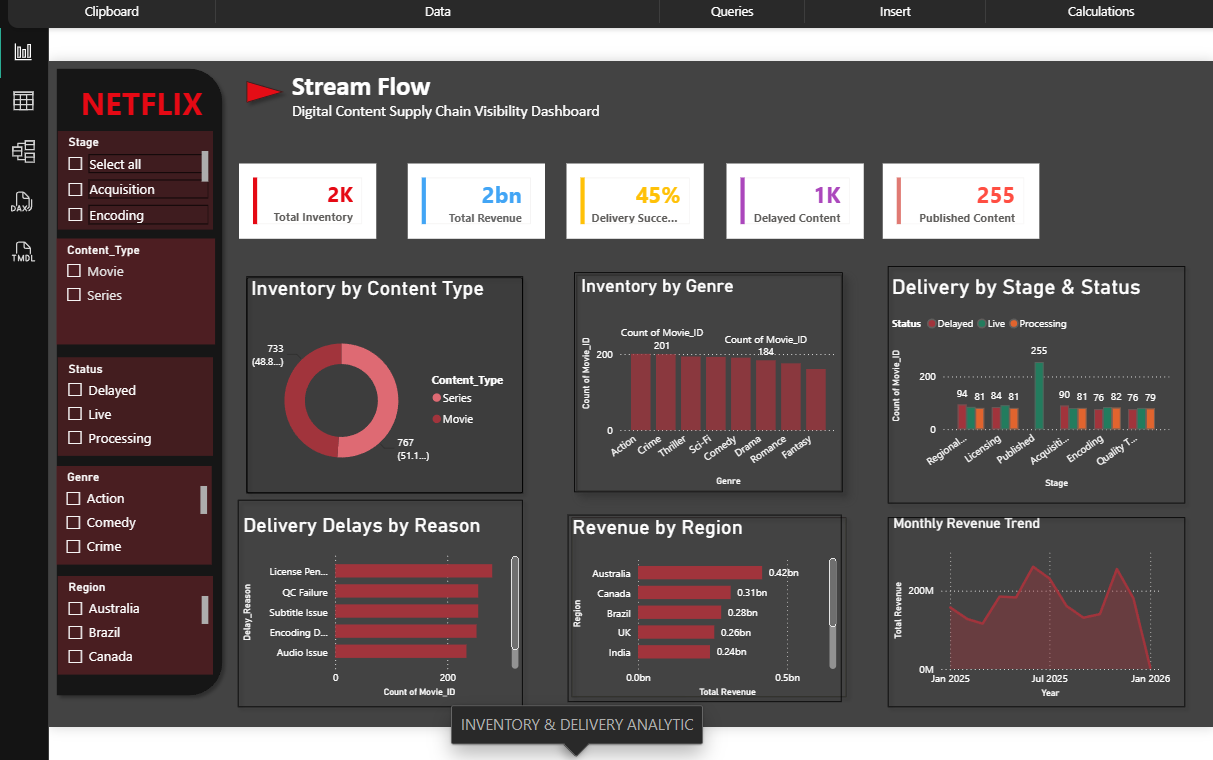

What the dashboard file says about the page in this screenshot:
{"tool":"powerbi","page":{"name":"INVENTORY & DELIVERY ANALYTIC","canvas":[1400,800],"ordinal":2},"visuals":[{"type":"shape","box":[0,0,217.2,770.8],"z":0},{"type":"textbox","box":[33.5,20.1,163.5,64.3],"z":1000},{"type":"cardVisual","fields":{"Data":["Netflix_Content_Supply_Chain.Total Revenue"]},"box":[430.3,123.3,165,90],"z":2000},{"type":"cardVisual","fields":{"Data":["Netflix_Content_Supply_Chain.Delivery Success %"]},"box":[622,123.3,165,90],"z":3000},{"type":"cardVisual","fields":{"Data":["Netflix_Content_Supply_Chain.Delayed Content"]},"box":[813.7,123.3,165,90],"z":4000},{"type":"cardVisual","fields":{"Data":["Netflix_Content_Supply_Chain.Published Content"]},"box":[1001.1,123.1,187.6,90.1],"z":5000},{"type":"cardVisual","fields":{"Data":["Netflix_Content_Supply_Chain.Total Inventory"]},"box":[227.9,123.3,165,90],"z":6000},{"type":"shape","box":[227.9,14.7,63,44.2],"z":7000},{"type":"textbox","box":[286.9,6.7,191.7,61.7],"z":8000},{"type":"textbox","box":[286.9,44.2,394.1,40.2],"z":9000},{"type":"shape","box":[227.9,250.7,349.9,277.5],"z":10000},{"type":"donutChart","title":"Inventory by Content Type","fields":{"Category":["Netflix_Content_Supply_Chain.Content_Type"],"Y":["CountNonNull(Netflix_Content_Supply_Chain.Movie_ID)"]},"box":[237.1,258.1,331.7,261.2],"z":11000},{"type":"shape","box":[621.4,244.6,340.7,282.2],"z":12000},{"type":"clusteredColumnChart","title":"Inventory by Genre","fields":{"Category":["Netflix_Content_Supply_Chain.Genre"],"Y":["CountNonNull(Netflix_Content_Supply_Chain.Movie_ID)"]},"box":[633.4,256.6,318.2,259.6],"z":13000},{"type":"clusteredBarChart","title":"Delivery Delays by Reason","fields":{"Category":["Netflix_Content_Supply_Chain.Delay_Reason"],"Y":["CountNonNull(Netflix_Content_Supply_Chain.Movie_ID)"]},"box":[228.1,543.3,340.7,225.1],"z":14000},{"type":"shape","box":[618.4,538.8,348.2,234.1],"z":15000},{"type":"clusteredBarChart","title":"Revenue by Region","fields":{"Category":["Netflix_Content_Supply_Chain.Region","Netflix_Content_Supply_Chain.Content_Type"],"Y":["Netflix_Content_Supply_Chain.Total Revenue"]},"box":[622.9,544.8,328.7,225.1],"z":16000},{"type":"clusteredColumnChart","title":"Delivery by Stage & Status","fields":{"Category":["Netflix_Content_Supply_Chain.Stage"],"Y":["CountNonNull(Netflix_Content_Supply_Chain.Movie_ID)"],"Series":["Netflix_Content_Supply_Chain.Status"]},"box":[1006.7,257.4,343.2,261.4],"z":17000},{"type":"slicer","fields":{"Values":["Netflix_Content_Supply_Chain.Stage"]},"box":[10.5,84,186.1,118.6],"z":18000},{"type":"slicer","fields":{"Values":["Netflix_Content_Supply_Chain.Content_Type"]},"box":[9,213.1,190.6,127.6],"z":19000},{"type":"slicer","fields":{"Values":["Netflix_Content_Supply_Chain.Status"]},"box":[10.5,355.7,186.1,118.6],"z":20000},{"type":"slicer","fields":{"Values":["Netflix_Content_Supply_Chain.Genre"]},"box":[9,486.3,186.1,118.6],"z":21000},{"type":"slicer","fields":{"Values":["Netflix_Content_Supply_Chain.Region"]},"box":[10.5,618.4,186.1,118.6],"z":22000},{"type":"lineChart","title":"Monthly Revenue Trend","fields":{"Y":["Netflix_Content_Supply_Chain.Total Revenue"],"Category":["Netflix_Content_Supply_Chain.Acquisition_Date.Variation.Date Hierarchy.Year","Netflix_Content_Supply_Chain.Acquisition_Date.Variation.Date Hierarchy.Month"]},"box":[1008.6,544.8,343,225],"z":23000},{"type":"shape","box":[998.1,237.1,375.2,303.2],"z":24000},{"type":"shape","box":[998.1,538.8,375.2,246.1],"z":25000},{"type":"shape","box":[217.6,517.8,360.2,267.2],"z":26000}]}

Visuals, with their boxes on the page's 1400x800 design canvas (x1, y1, x2, y2). These are canvas units, not pixel positions in the 1213x760 screenshot, which may show the page scaled, cropped or inside an application window:
shape: l=0, t=0, r=217, b=771
textbox: l=34, t=20, r=197, b=84
cardVisual - Netflix_Content_Supply_Chain.Total Revenue: l=430, t=123, r=595, b=213
cardVisual - Netflix_Content_Supply_Chain.Delivery Success %: l=622, t=123, r=787, b=213
cardVisual - Netflix_Content_Supply_Chain.Delayed Content: l=814, t=123, r=979, b=213
cardVisual - Netflix_Content_Supply_Chain.Published Content: l=1001, t=123, r=1189, b=213
cardVisual - Netflix_Content_Supply_Chain.Total Inventory: l=228, t=123, r=393, b=213
shape: l=228, t=15, r=291, b=59
textbox: l=287, t=7, r=479, b=68
textbox: l=287, t=44, r=681, b=84
shape: l=228, t=251, r=578, b=528
"Inventory by Content Type" donutChart: l=237, t=258, r=569, b=519
shape: l=621, t=245, r=962, b=527
"Inventory by Genre" clusteredColumnChart: l=633, t=257, r=952, b=516
"Delivery Delays by Reason" clusteredBarChart: l=228, t=543, r=569, b=768
shape: l=618, t=539, r=967, b=773
"Revenue by Region" clusteredBarChart: l=623, t=545, r=952, b=770
"Delivery by Stage & Status" clusteredColumnChart: l=1007, t=257, r=1350, b=519
slicer - Netflix_Content_Supply_Chain.Stage: l=10, t=84, r=197, b=203
slicer - Netflix_Content_Supply_Chain.Content_Type: l=9, t=213, r=200, b=341
slicer - Netflix_Content_Supply_Chain.Status: l=10, t=356, r=197, b=474
slicer - Netflix_Content_Supply_Chain.Genre: l=9, t=486, r=195, b=605
slicer - Netflix_Content_Supply_Chain.Region: l=10, t=618, r=197, b=737
"Monthly Revenue Trend" lineChart: l=1009, t=545, r=1352, b=770
shape: l=998, t=237, r=1373, b=540
shape: l=998, t=539, r=1373, b=785
shape: l=218, t=518, r=578, b=785
